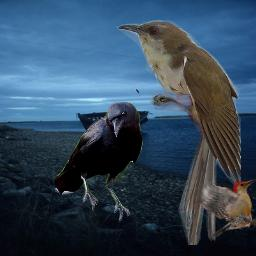Crow: (55, 102, 143, 222)
Cuckoo: (117, 19, 241, 245)
Woodpecker: (190, 178, 256, 237)
